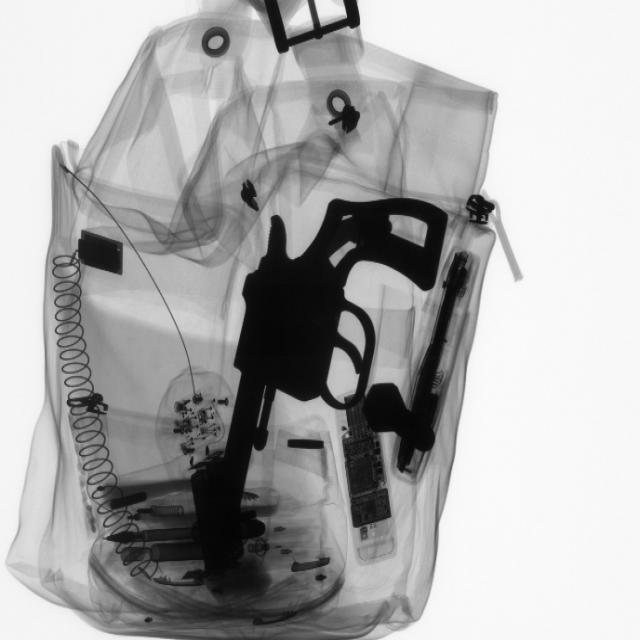GUN: (216, 193, 455, 503)
